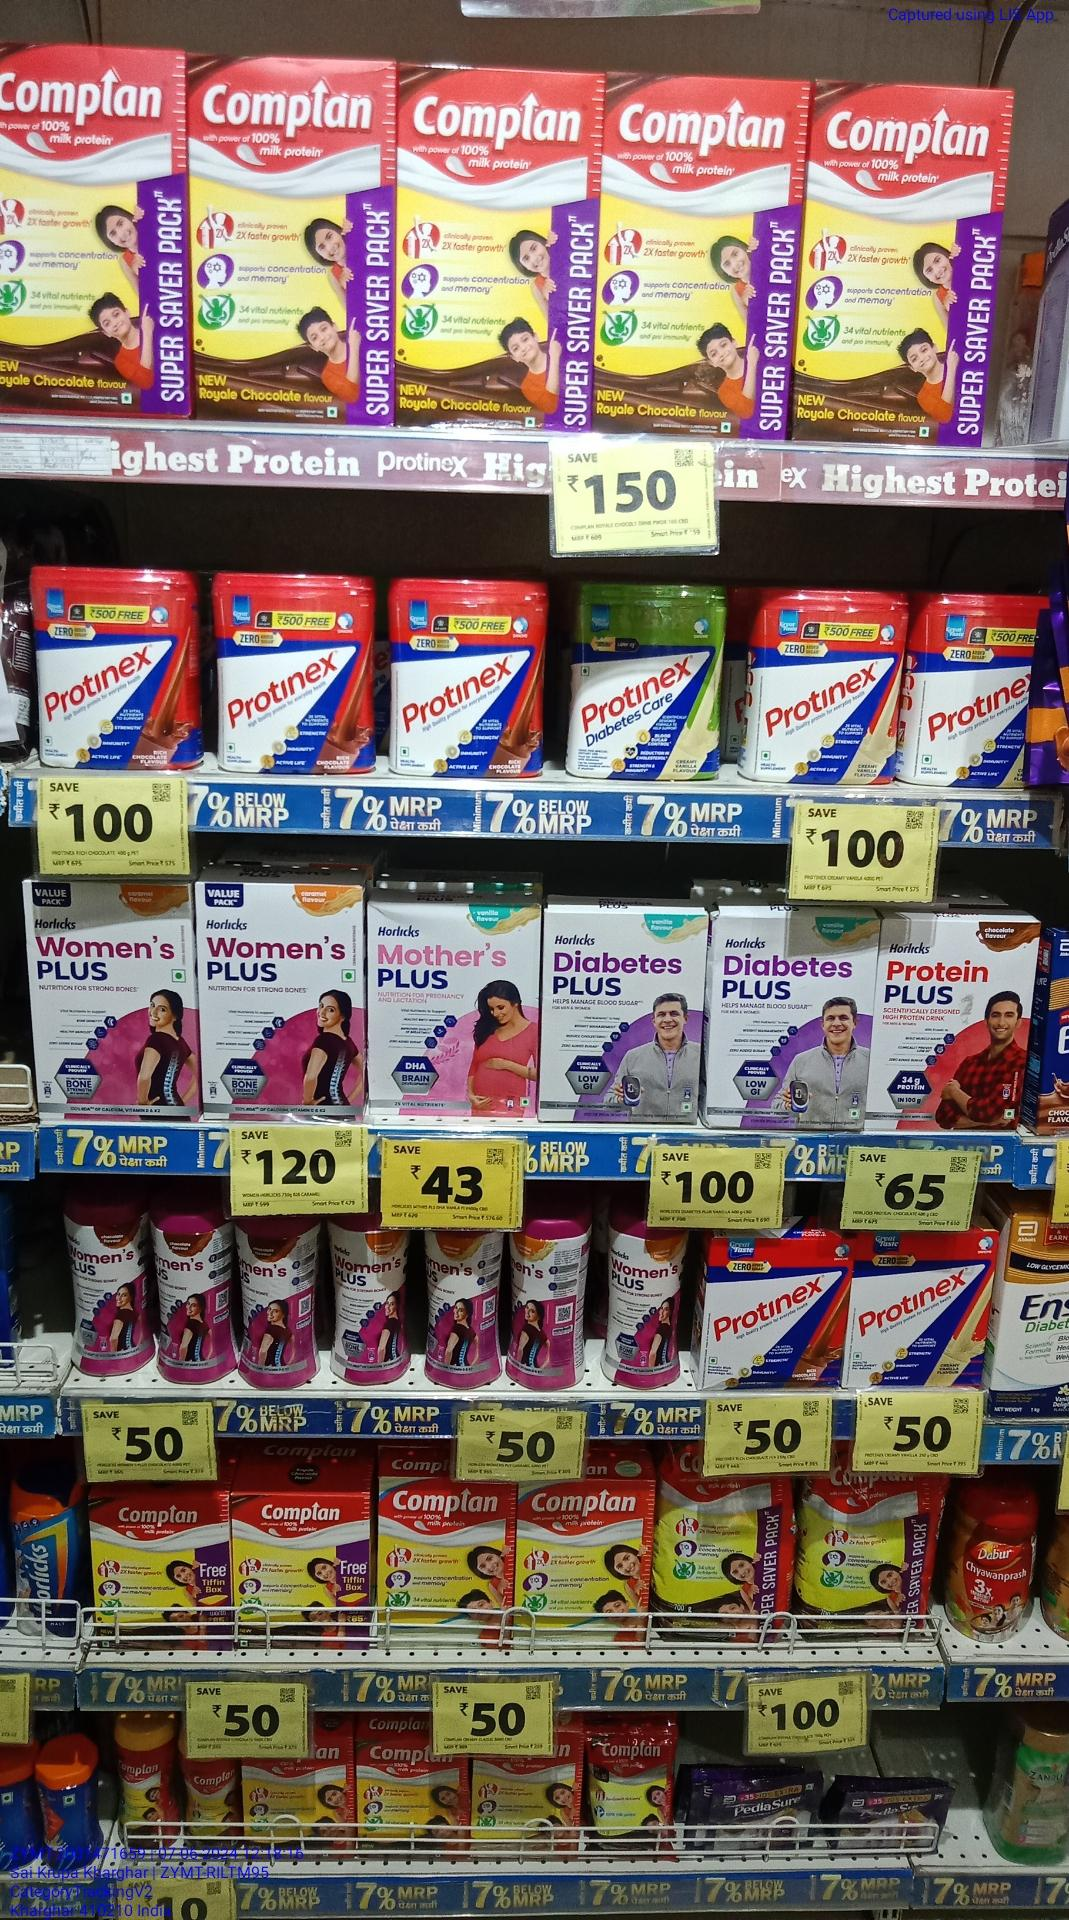PROTINEX_CHOCOLATE_400_G_JAR: (24, 580, 187, 775), (212, 591, 369, 770), (395, 611, 529, 787)
PROTINEX_VANILLA_400_G_JAR: (748, 613, 887, 786), (918, 619, 1010, 795)
